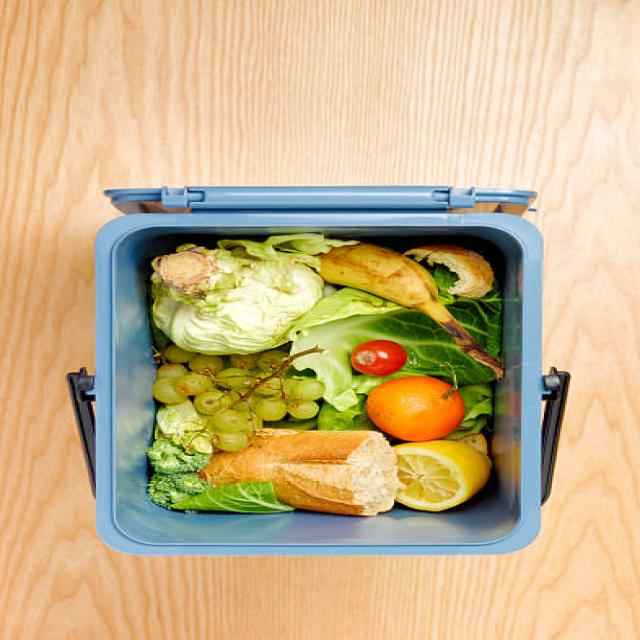trash: (142, 246, 494, 527)
